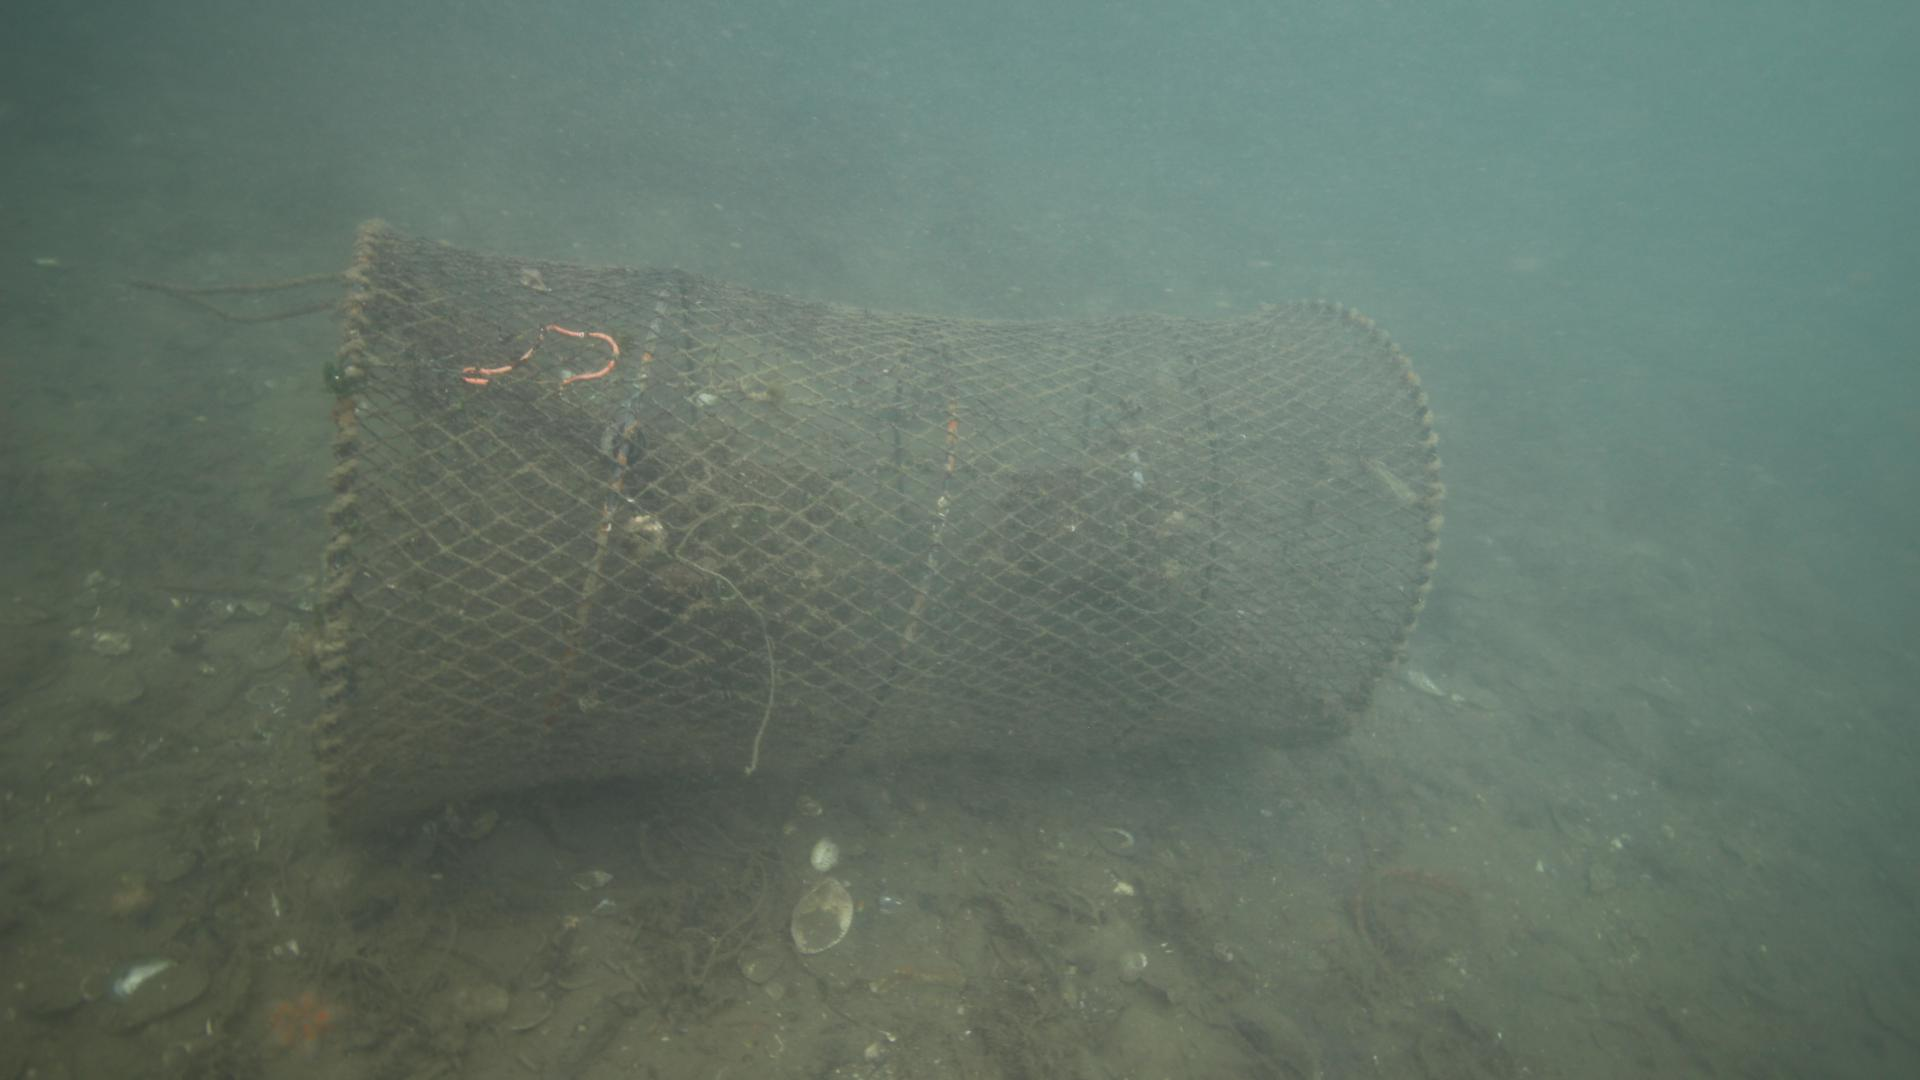bundle of ropes: (138, 260, 351, 328)
spring fish trap: (313, 215, 1452, 839)
